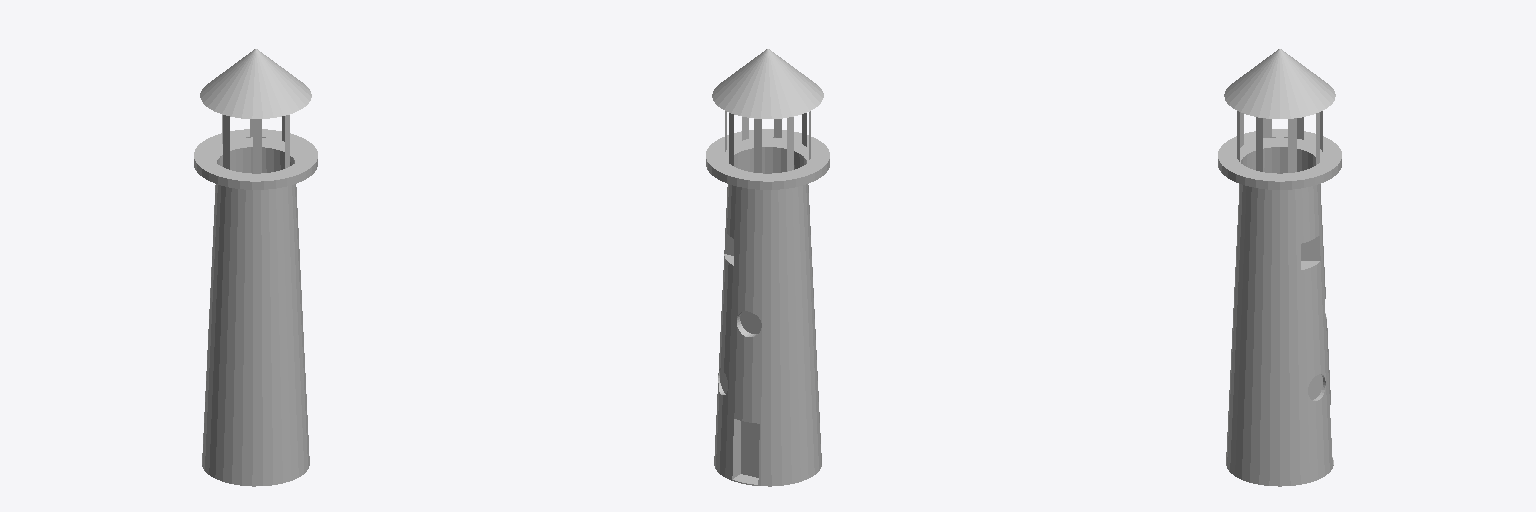
File: kostka.obj
3 views of the same model, side by side, from view 1: azimuth 30°, elevation 25°; view 2: azimuth 150°, elevation 25°; view 3: azimuth 270°, elevation 25° (orthographic).
Parts seen in each view (by area): view 1: Latarnia_Circle.003; view 2: Latarnia_Circle.003; view 3: Latarnia_Circle.003.
Boxes of the visible parts, x1=… form: Latarnia_Circle.003: x1=194, y1=49, x2=317, y2=486; Latarnia_Circle.003: x1=706, y1=49, x2=829, y2=486; Latarnia_Circle.003: x1=1218, y1=49, x2=1341, y2=486.
Size of the model in its own units: 1.45 by 5.32 by 1.45.